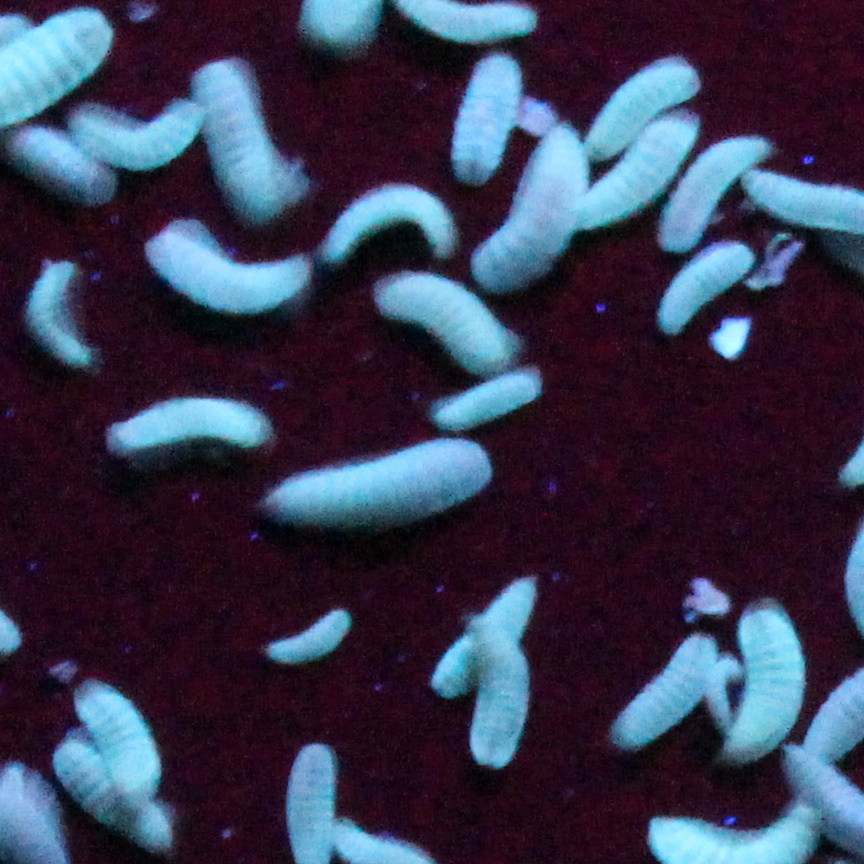larve: (282, 444, 502, 524), (595, 633, 712, 744), (150, 240, 306, 320), (210, 68, 294, 216), (432, 581, 546, 690), (570, 52, 702, 140), (490, 132, 554, 312), (455, 627, 529, 781), (102, 400, 270, 464), (586, 136, 698, 232), (726, 613, 804, 750), (370, 280, 490, 368), (338, 188, 462, 272), (72, 681, 152, 807), (22, 256, 102, 376), (442, 68, 518, 176), (426, 376, 550, 428), (686, 236, 746, 336), (258, 610, 355, 658)
